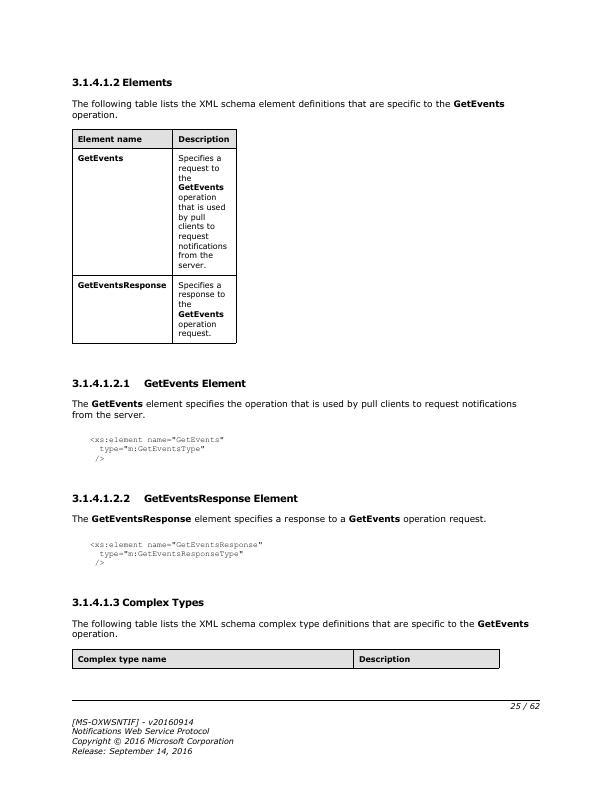table: (70, 125, 240, 347), (71, 647, 502, 673)
text: (68, 616, 533, 641), (70, 95, 507, 121), (68, 396, 519, 421), (68, 510, 489, 529), (68, 714, 238, 758), (87, 431, 230, 468), (86, 539, 268, 568), (68, 490, 304, 505), (68, 375, 248, 391), (63, 594, 210, 611), (68, 74, 174, 90)
